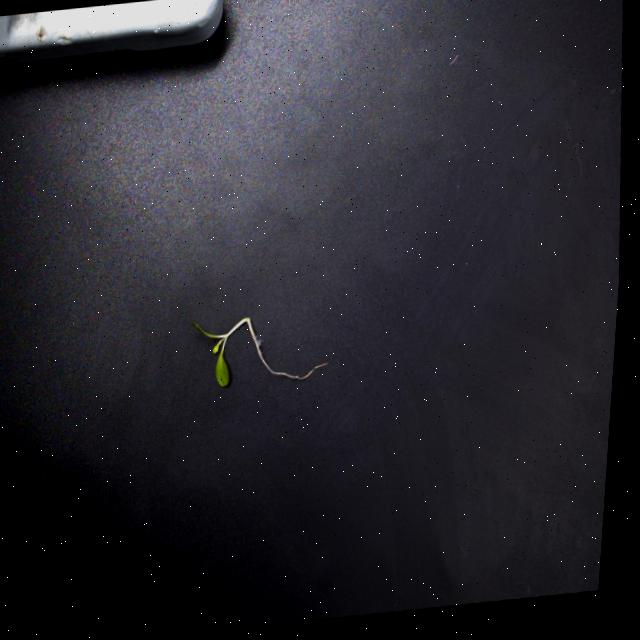leaf: (216, 353, 229, 386), (193, 323, 213, 338), (213, 342, 220, 353)
root: (247, 319, 328, 380)
stem: (216, 318, 248, 355)
